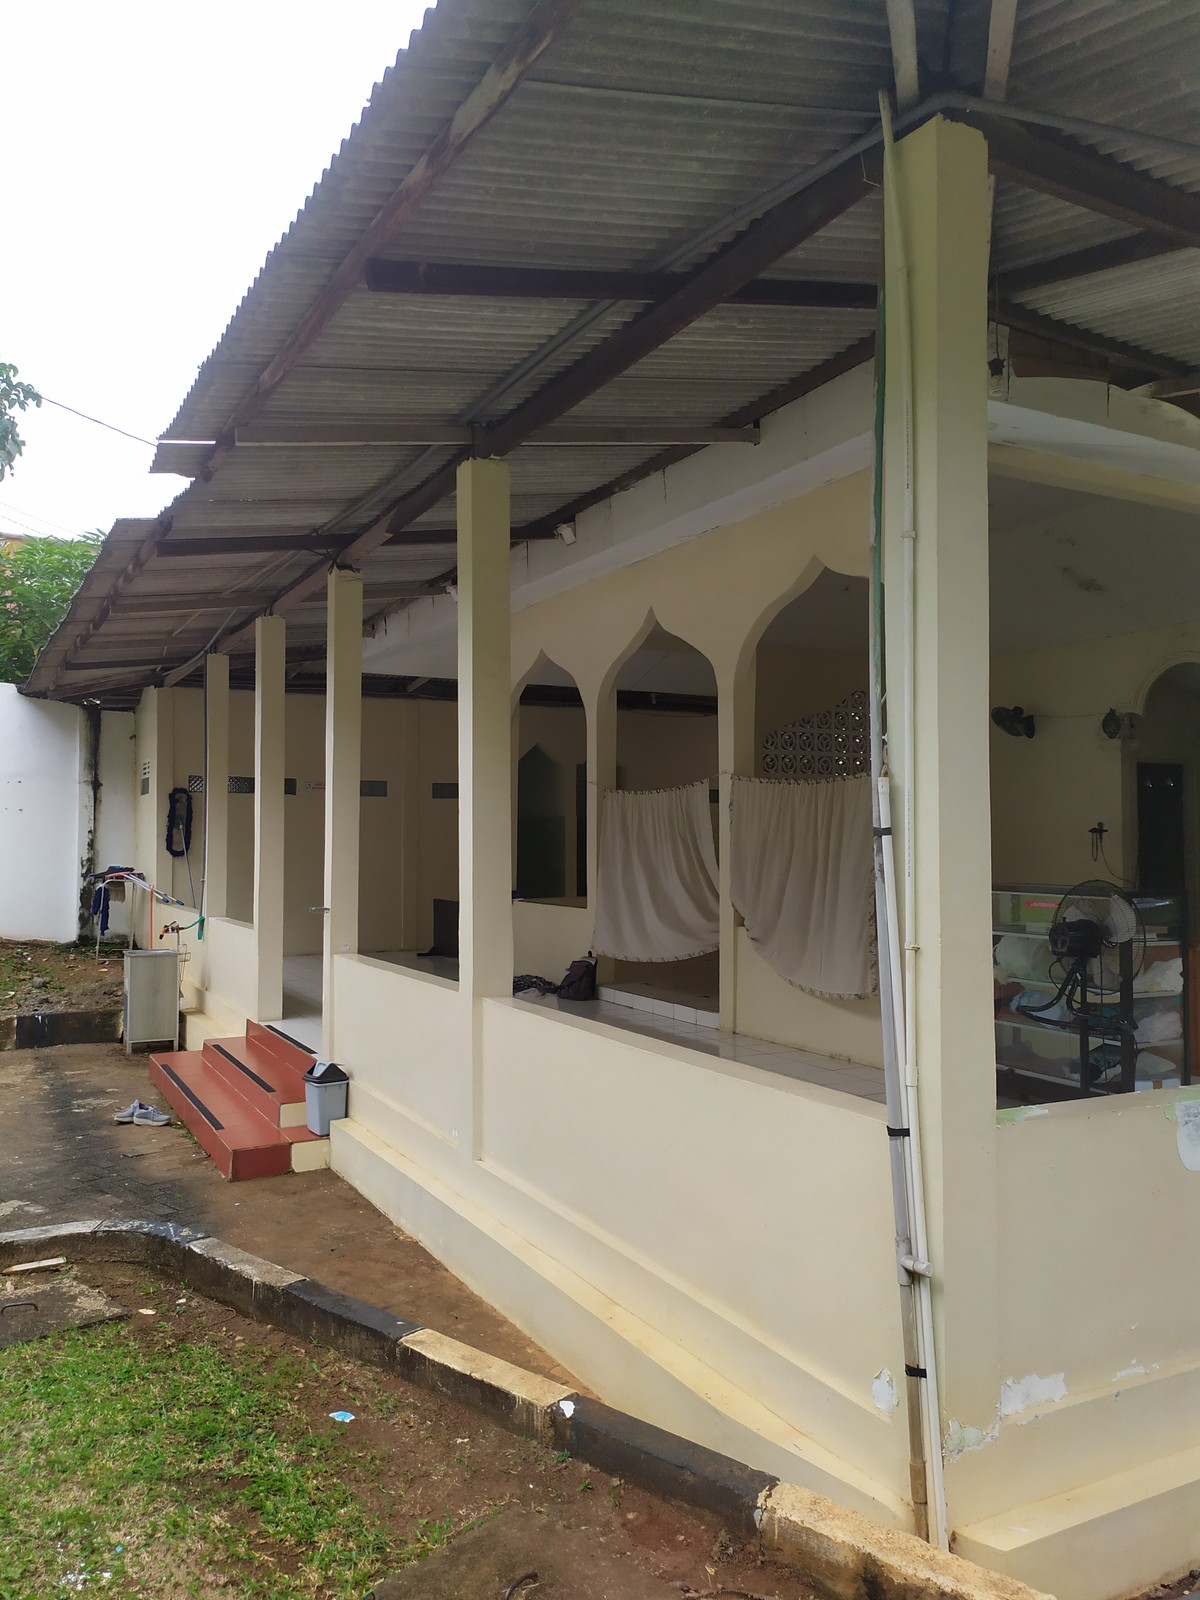concrete column: (863, 112, 1005, 1456), (449, 446, 517, 1158), (316, 558, 371, 1062), (711, 665, 760, 1049), (248, 610, 292, 1022), (579, 687, 625, 991), (199, 644, 236, 976)
